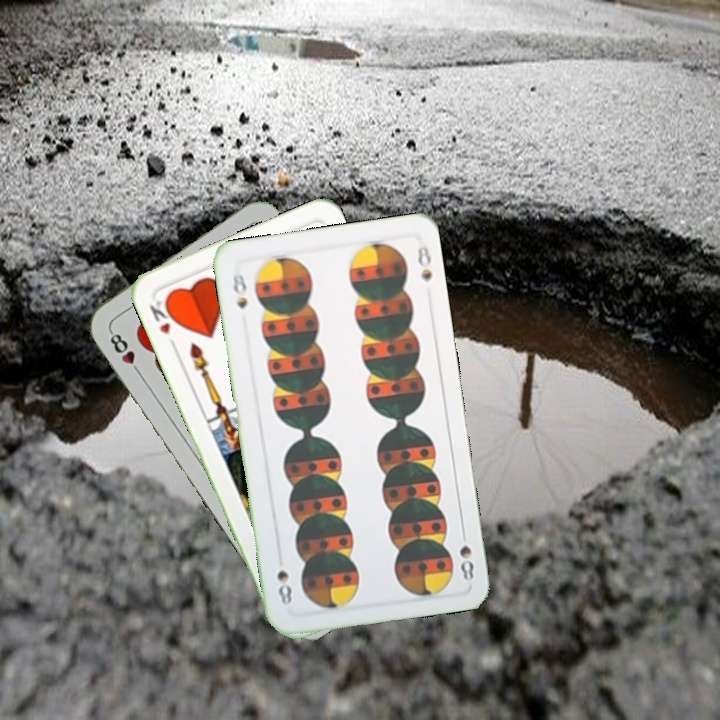H8: (105, 326, 145, 378)
HK: (145, 293, 179, 338)
S8: (455, 524, 477, 584), (229, 270, 250, 312)
